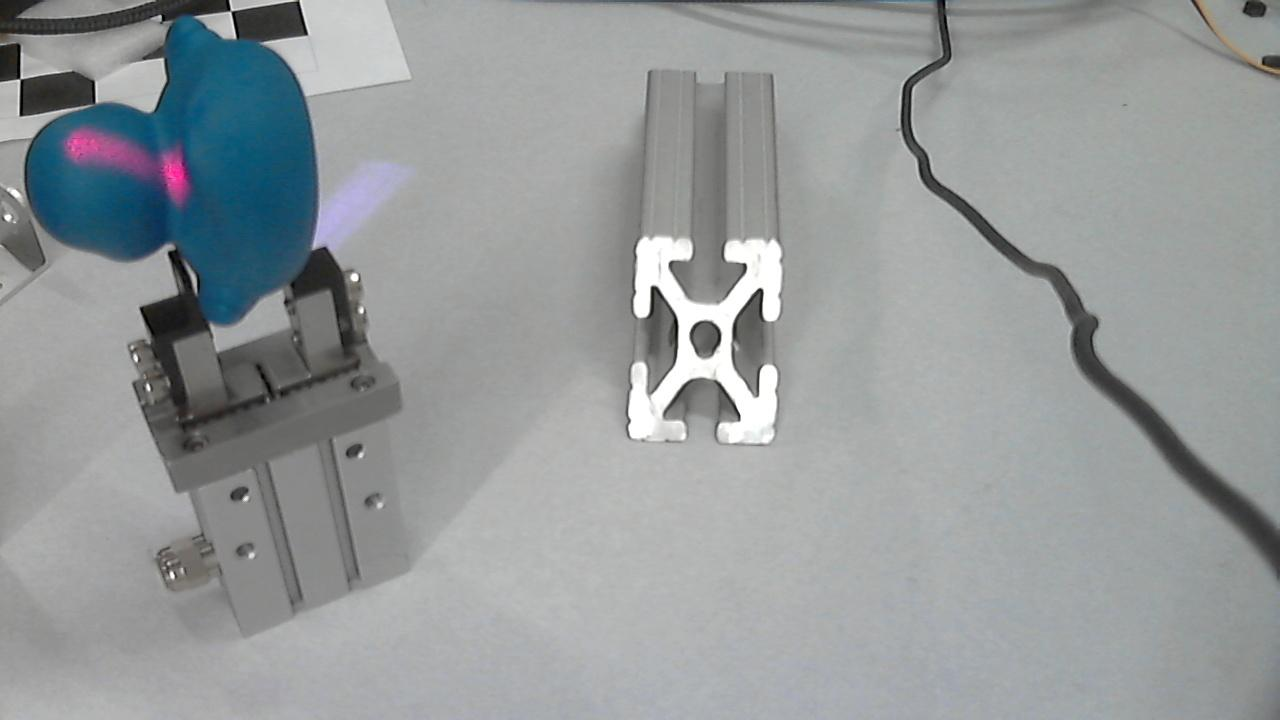Object scissors - Material metal - Pdfname tYexGlkiIXWc: (62, 127, 205, 205)
